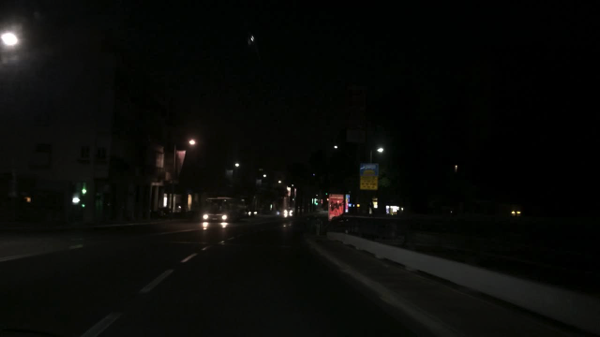bus: (200, 197, 247, 223)
car: (240, 208, 257, 217), (283, 206, 292, 214)
traffic light: (81, 183, 88, 195), (81, 204, 85, 210)
